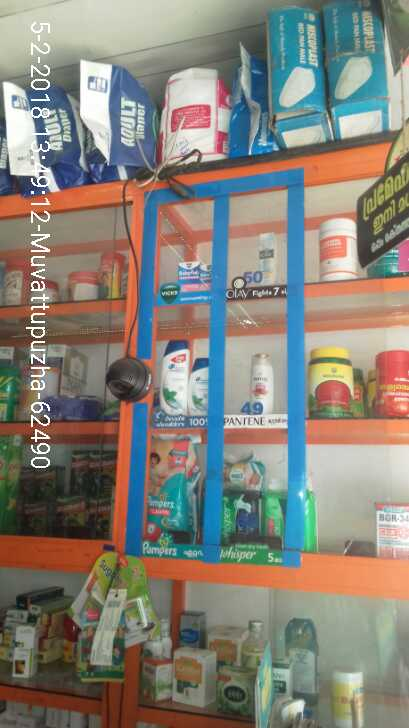vicks: (175, 258, 215, 290)
